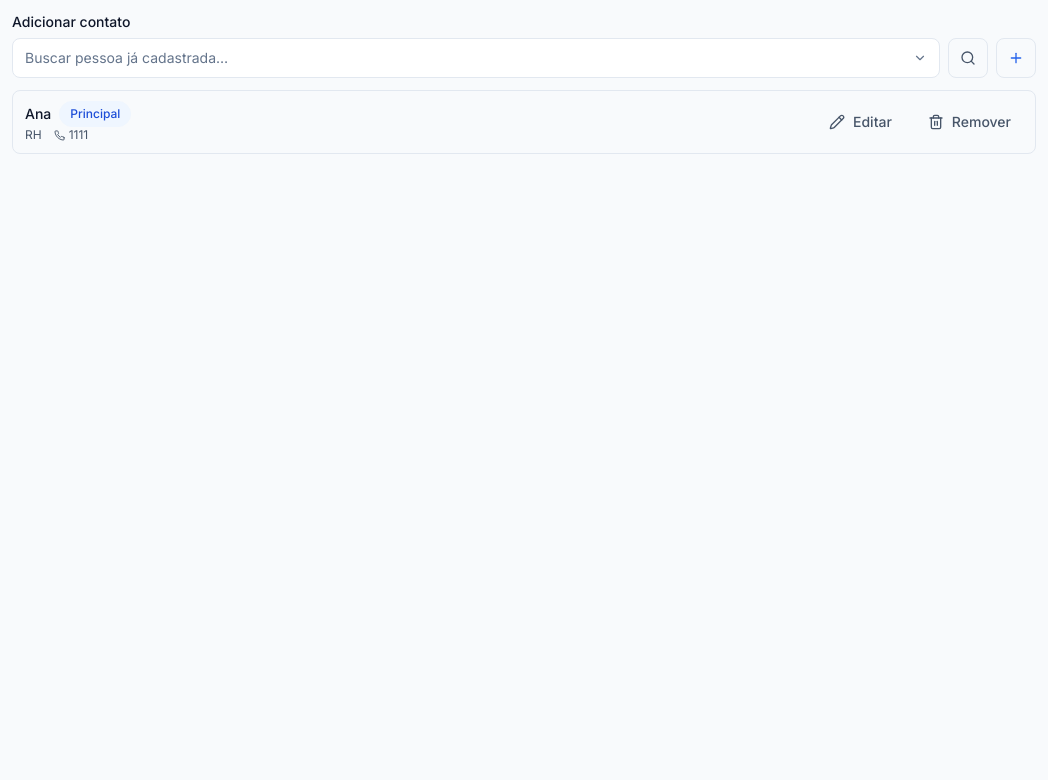
Test: ContatosDaConta — editar › o botão Editar troca a linha pelo formulário
The image size is (1048, 780).
Click the button with aria-label "Editar Ana". click: coordinates (860, 122)
box: [817,104,904,140]
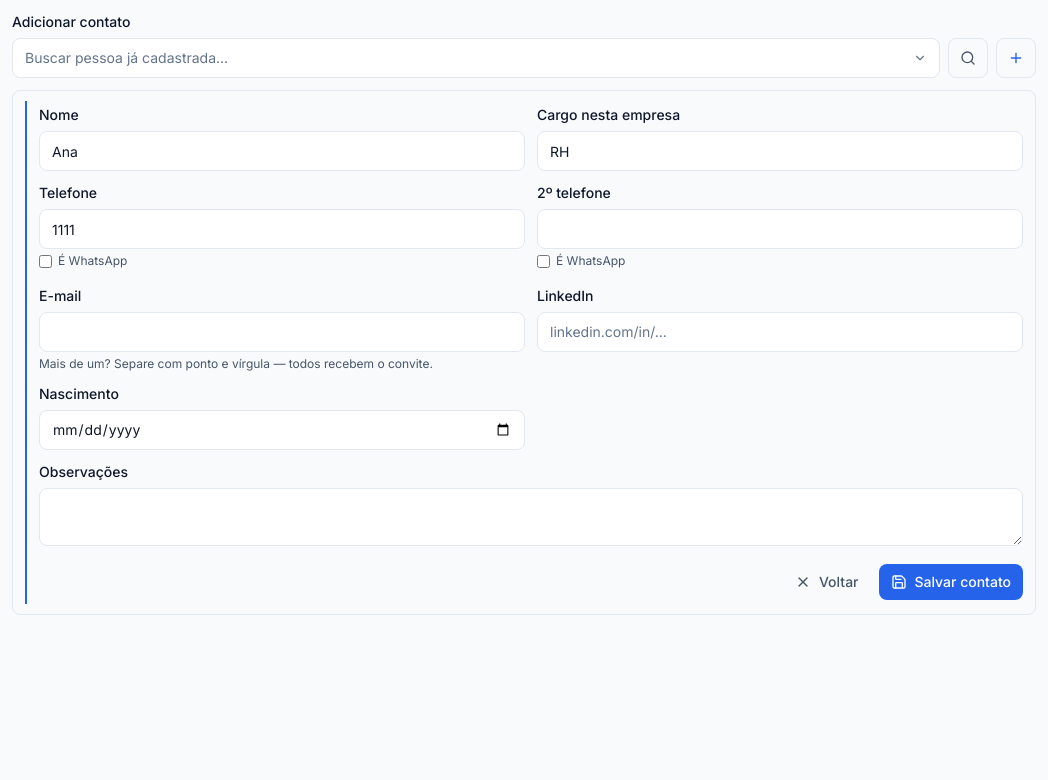
Expected: the button "Salvar contato" is shown, [878,564,1023,600]
Expected: the field labelled "Nome" holds "Ana", [39,131,525,171]
